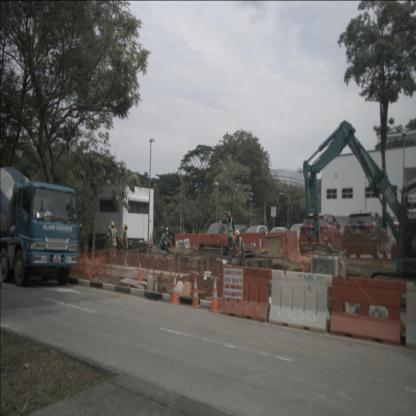human-pedestrian-adult: (217, 219, 225, 247)
movable_object-barrier: (327, 277, 406, 344), (268, 269, 332, 334), (219, 263, 272, 323), (402, 281, 416, 349), (237, 232, 266, 253), (283, 230, 300, 260), (266, 232, 285, 256), (174, 233, 196, 251), (216, 233, 236, 251), (196, 234, 216, 251)
movable_object-trafficcone: (209, 277, 219, 312), (170, 273, 180, 305), (191, 275, 200, 307), (137, 262, 143, 281), (149, 233, 153, 250)
vehicle-car: (343, 210, 388, 258), (299, 212, 344, 257), (241, 226, 269, 250), (287, 223, 308, 250), (204, 223, 229, 245), (223, 224, 248, 246), (268, 227, 289, 249)
vehicle-motorcycle: (159, 228, 174, 253)
